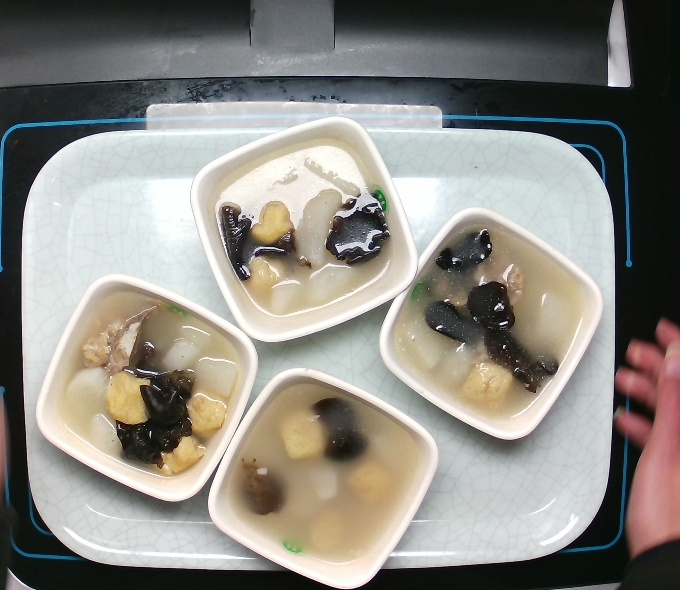wcq-ShanYaoTang: (374, 202, 608, 444), (184, 111, 423, 347), (29, 267, 263, 507), (203, 363, 446, 590)
